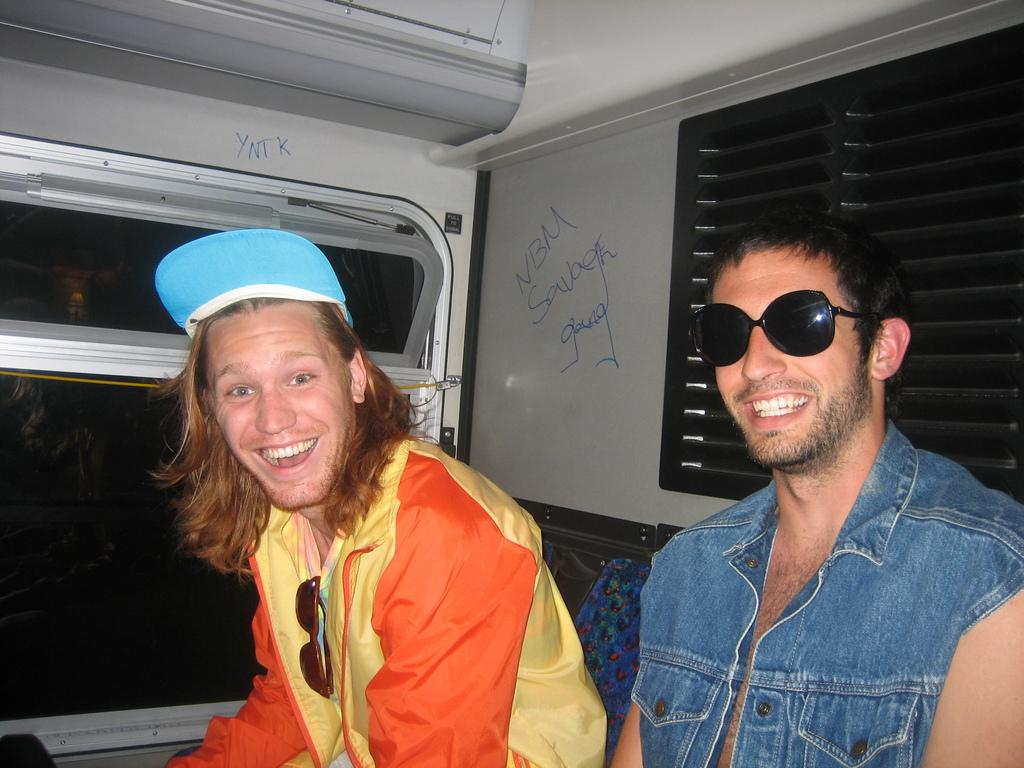Hat: (153, 228, 349, 337)
